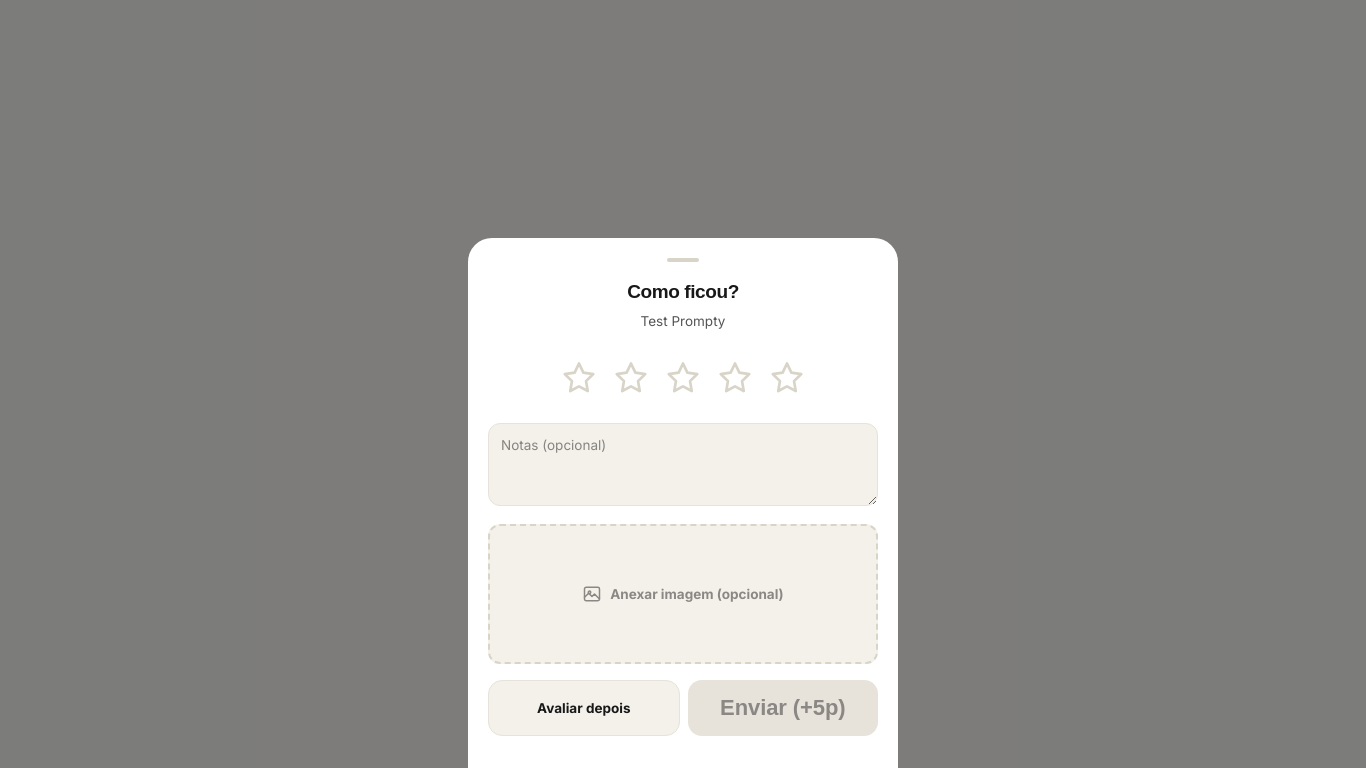
it: RateSheet › blocks submission until a rating is selected
expect the button "Enviar (+5p)" is disabled: met, box [688, 680, 878, 736]
Click the radio button named "3 estrelas".
click(683, 377)  # box [661, 355, 705, 399]
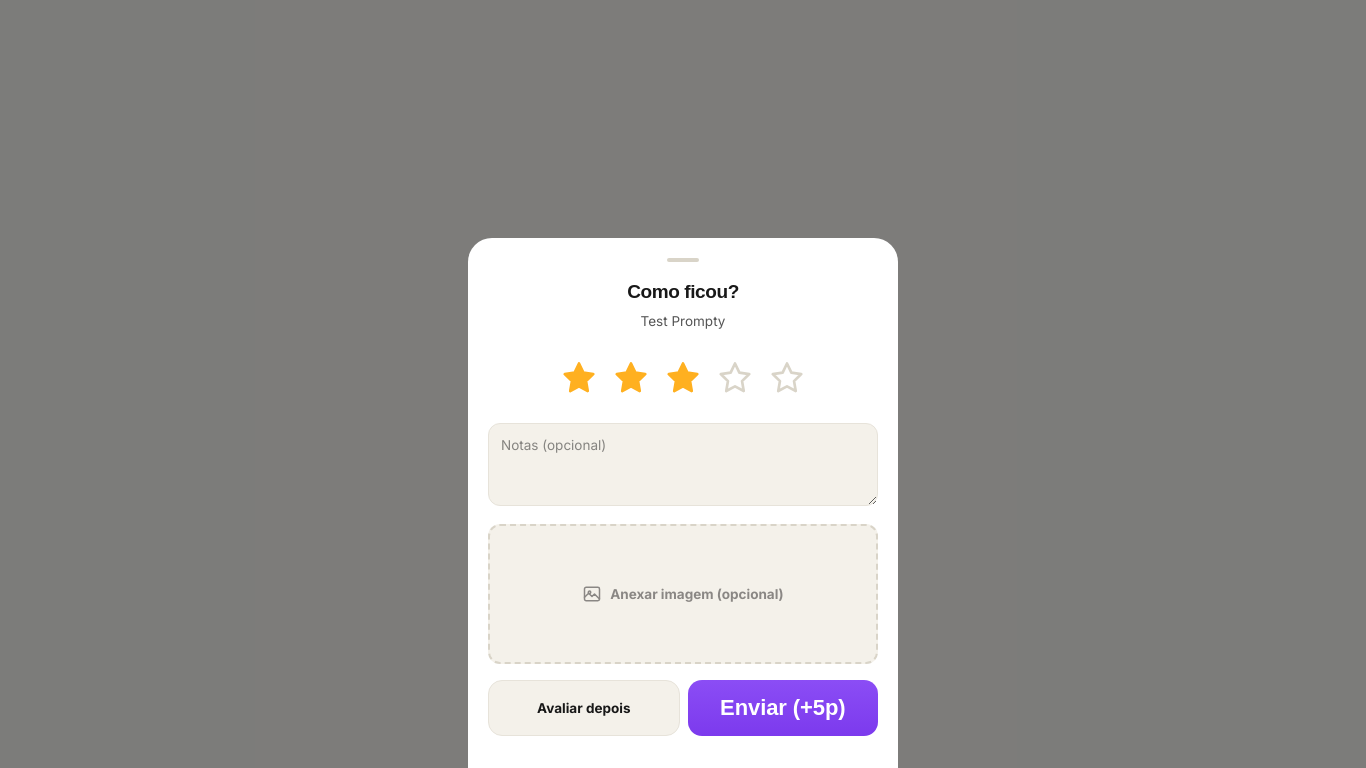
expect the button "Enviar (+5p)" is enabled: met, box [688, 680, 878, 736]
